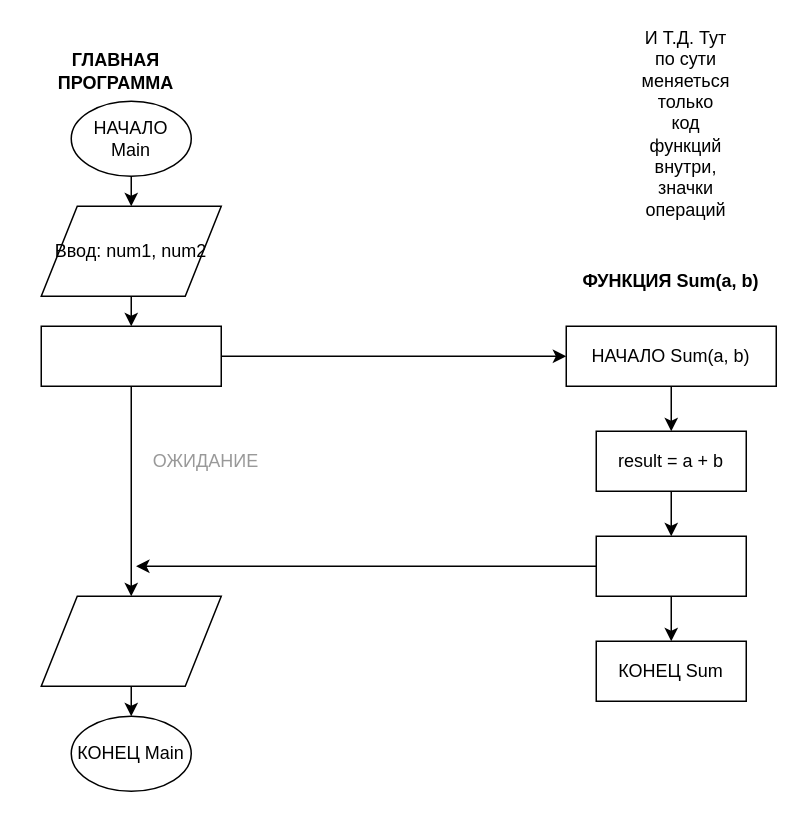
Image size: 803x818. Some labels were removed from this diagram. Here are the shapes that lost their labels. From the top down, the box of each, then its label:
(40, 325, 221, 386): result = Sum(a, b)
(595, 535, 746, 596): return result
(40, 595, 221, 686): Вывод: result
